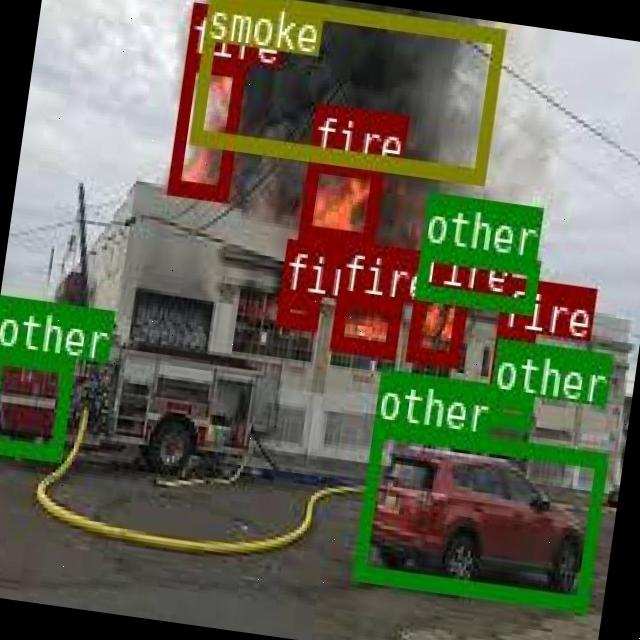fire: (165, 54, 244, 200), (296, 153, 384, 245), (404, 282, 466, 364), (328, 292, 399, 355), (490, 325, 532, 385), (276, 288, 318, 326)
smoke: (188, 0, 504, 181)
